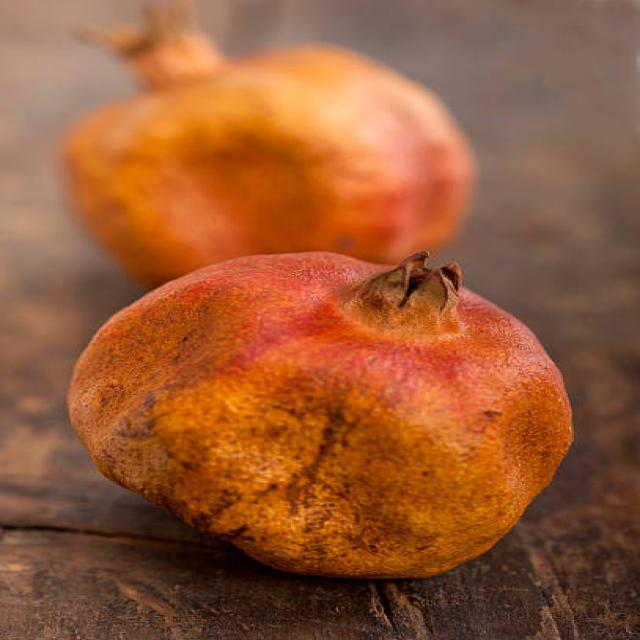overripe: (63, 244, 582, 586)
